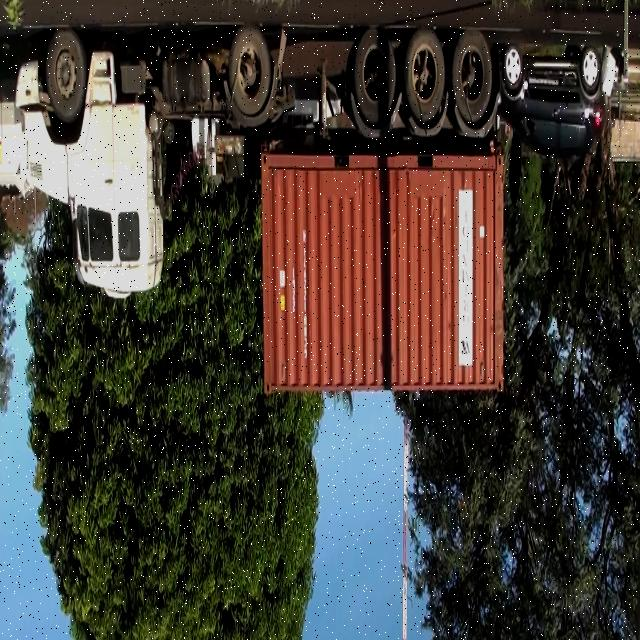-axle: (352, 30, 397, 124), (452, 30, 492, 127), (226, 25, 270, 113), (404, 30, 446, 121), (47, 32, 87, 122)
